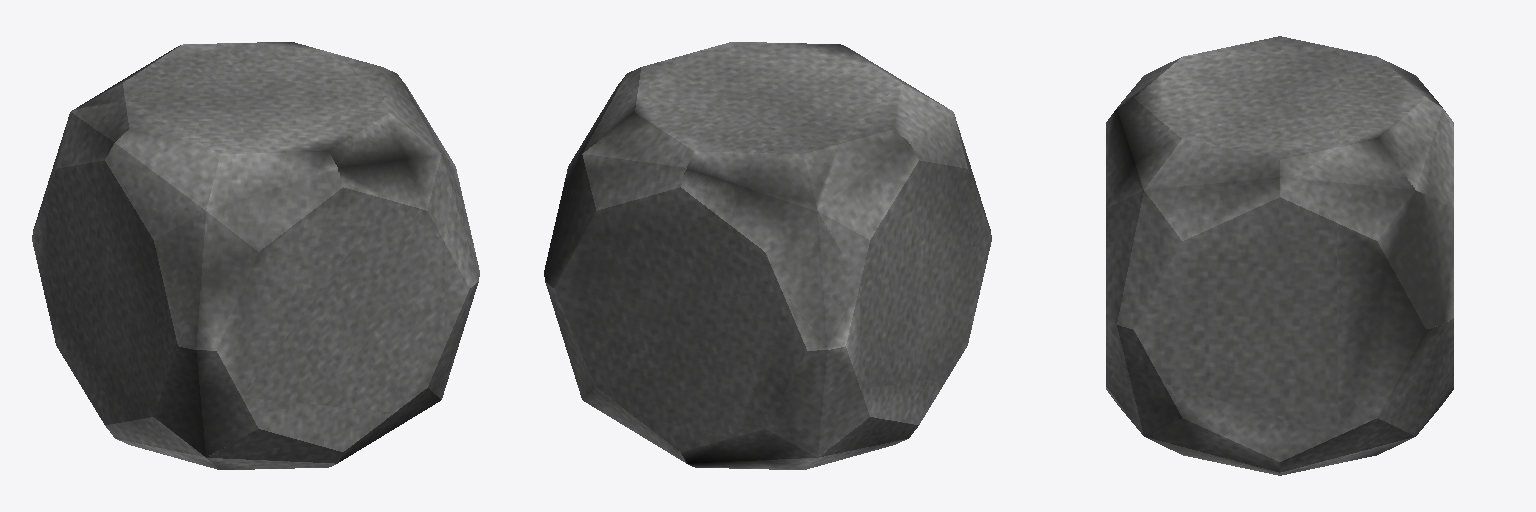
3 views of the same model, side by side, from view 1: azimuth 30°, elevation 25°; view 2: azimuth 150°, elevation 25°; view 3: azimuth 270°, elevation 25° (orthographic).
Bounding box in the file's own units: 1 × 1 × 1.
Materials: 1 (1 with a texture image).